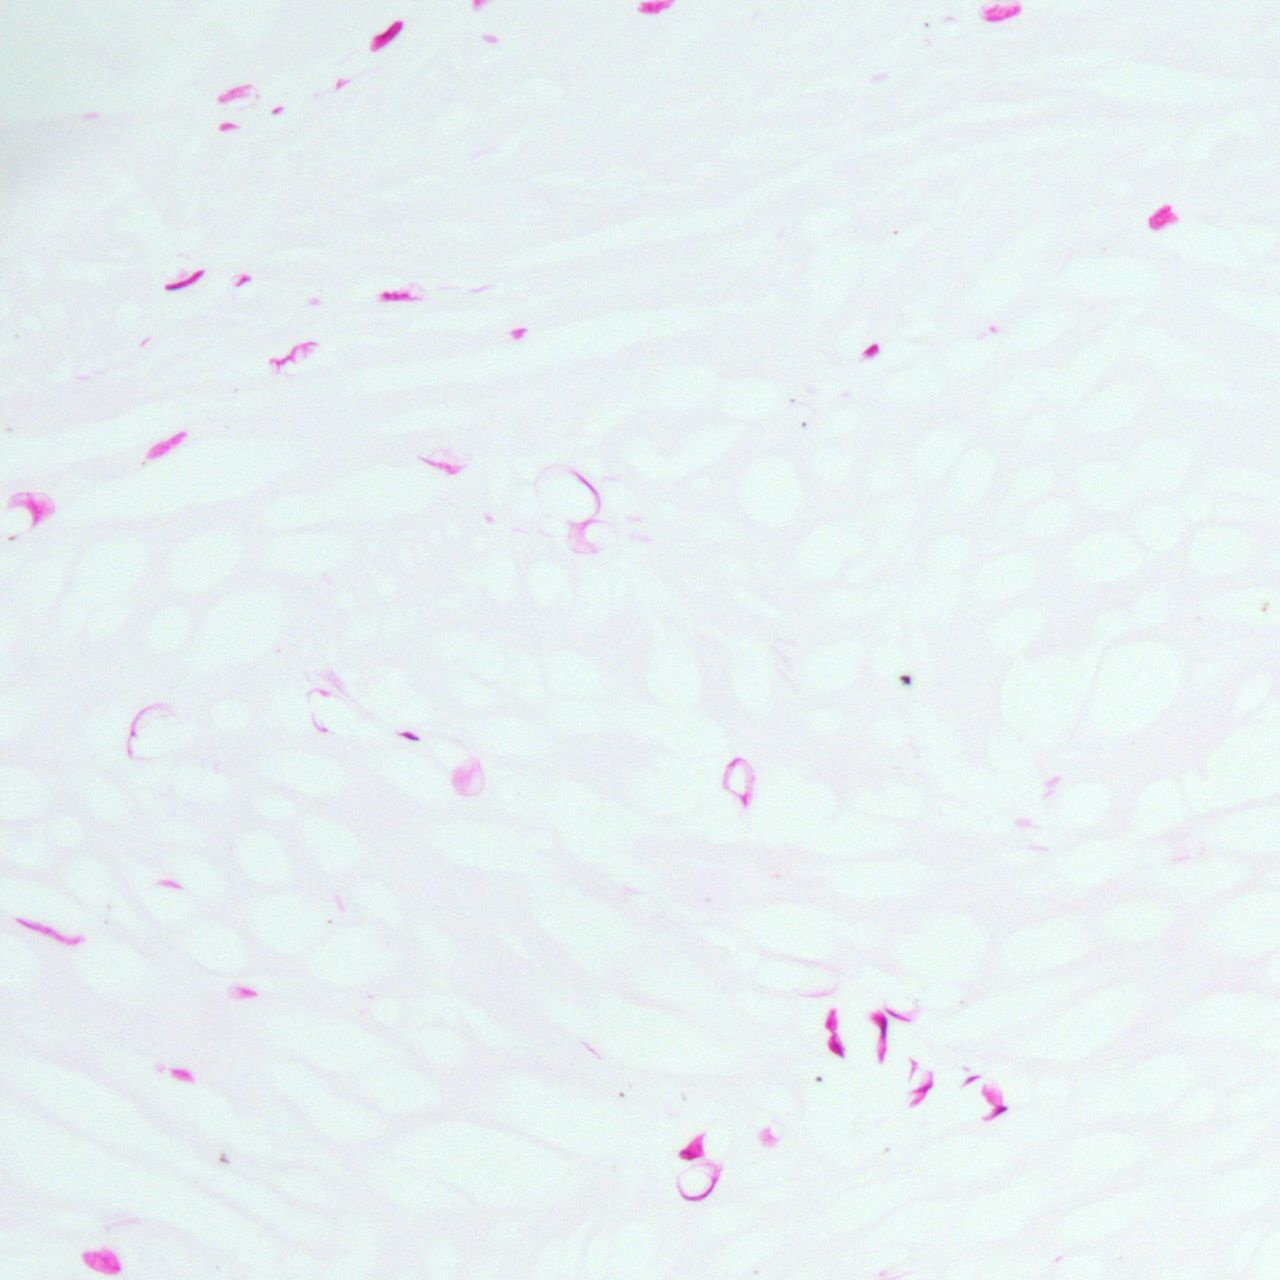dust: (900, 674, 911, 685), (219, 1152, 229, 1162), (1262, 601, 1269, 610), (816, 1075, 822, 1081)
nucleus-FG: (365, 16, 407, 55), (162, 267, 206, 295), (825, 1008, 844, 1056), (873, 1012, 886, 1063), (379, 290, 409, 301), (399, 728, 420, 744)
